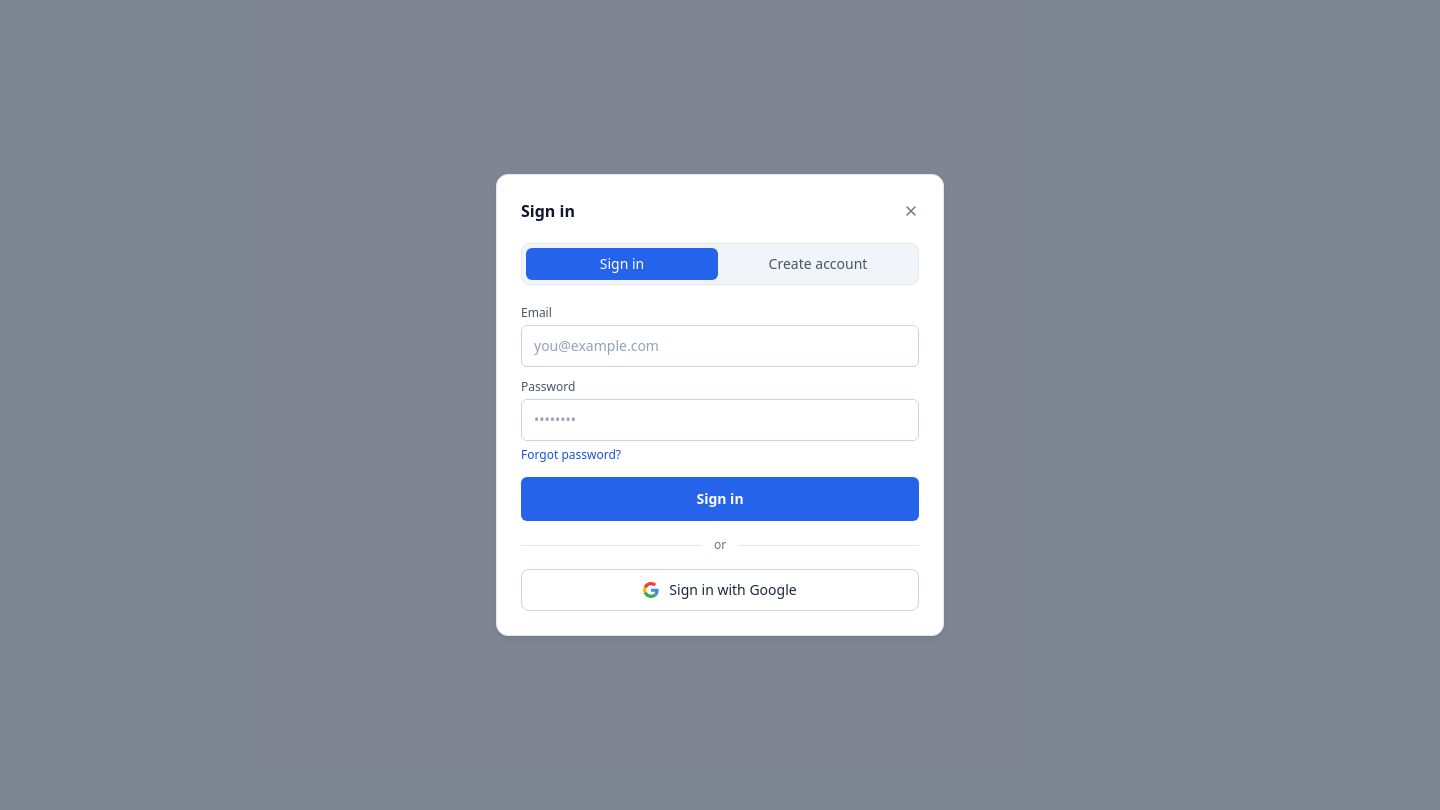
Test: AuthModal — forgot password › shows the neutral success message after requesting a reset
Click the button "Forgot password?".
click(571, 455)  # box [521, 447, 621, 463]
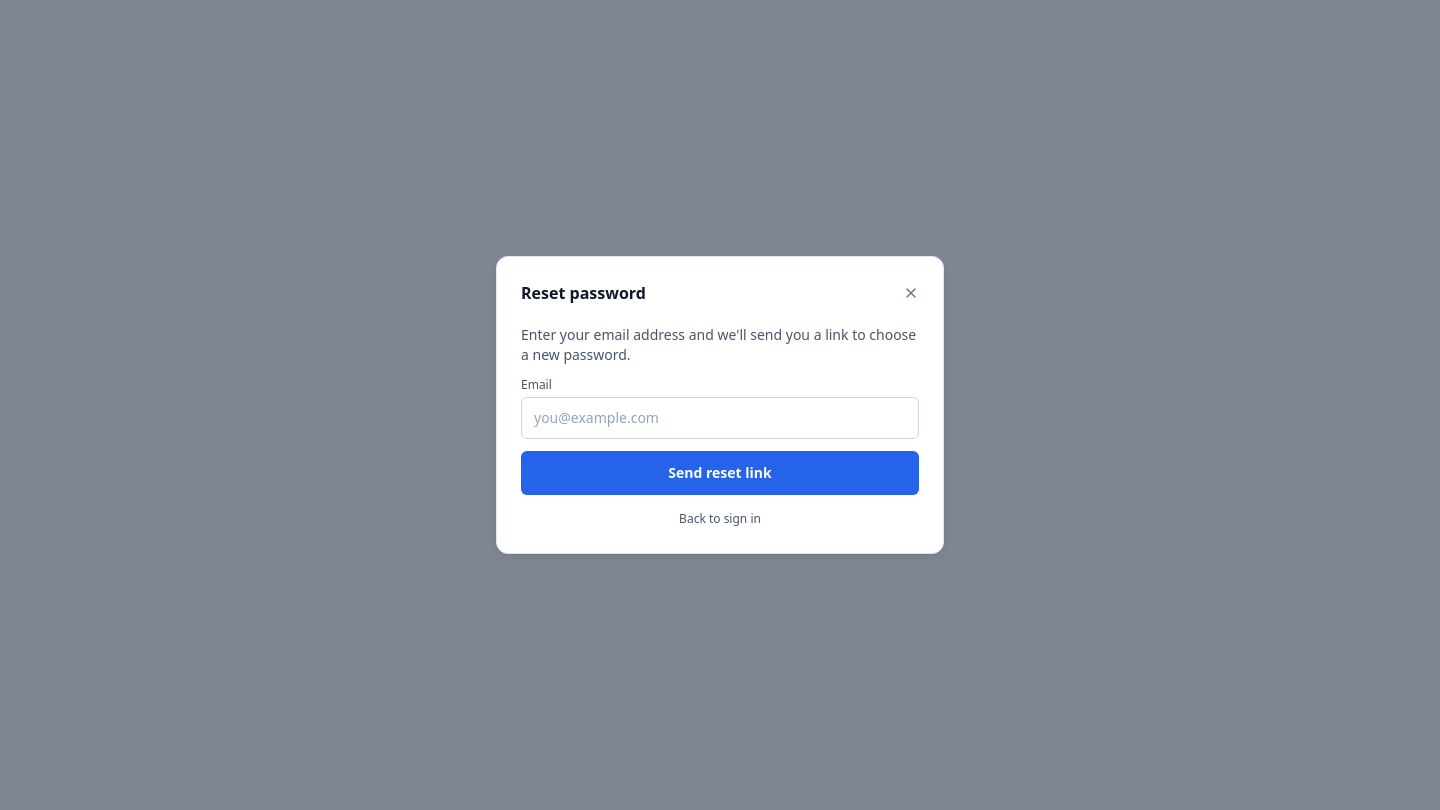
Type "a@example.com" into the field labelled "Email".
click(720, 418); type("a@example.com")  # box [521, 397, 919, 439]
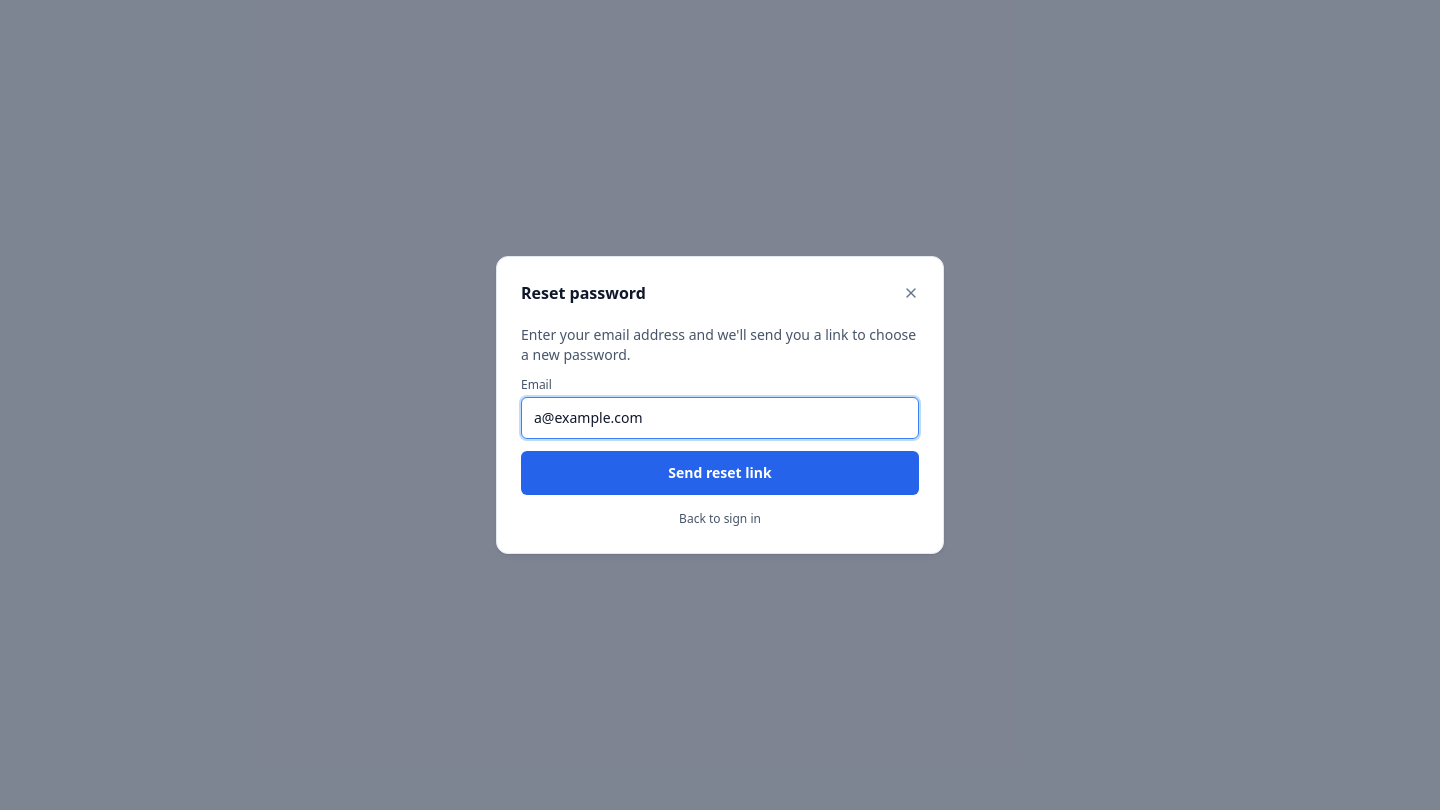
Click the button "Send reset link".
click(720, 473)  # box [521, 451, 919, 495]
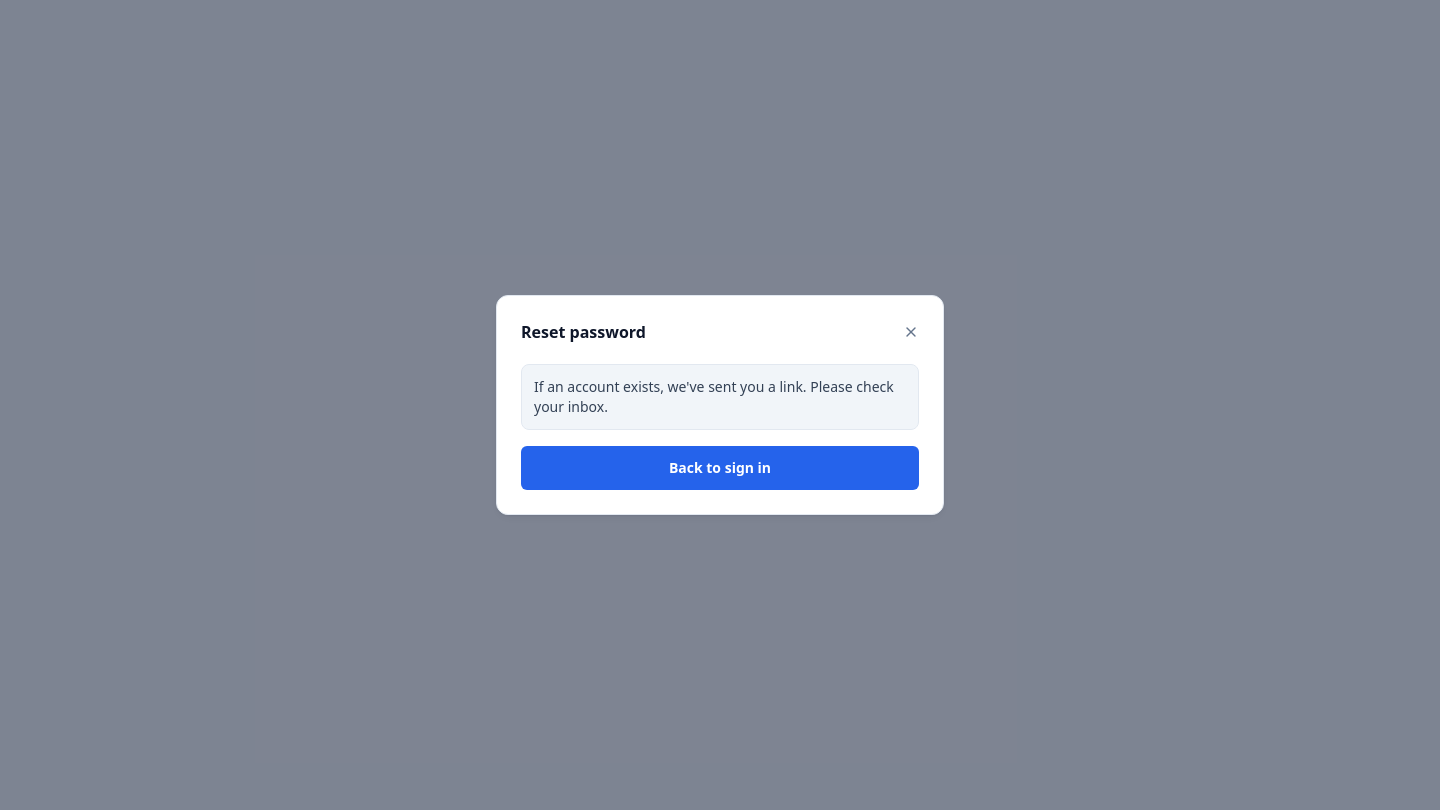
Now the text "If an account exists, we've sent you a link. Please check your inbox." is shown, box [534, 377, 906, 417]
